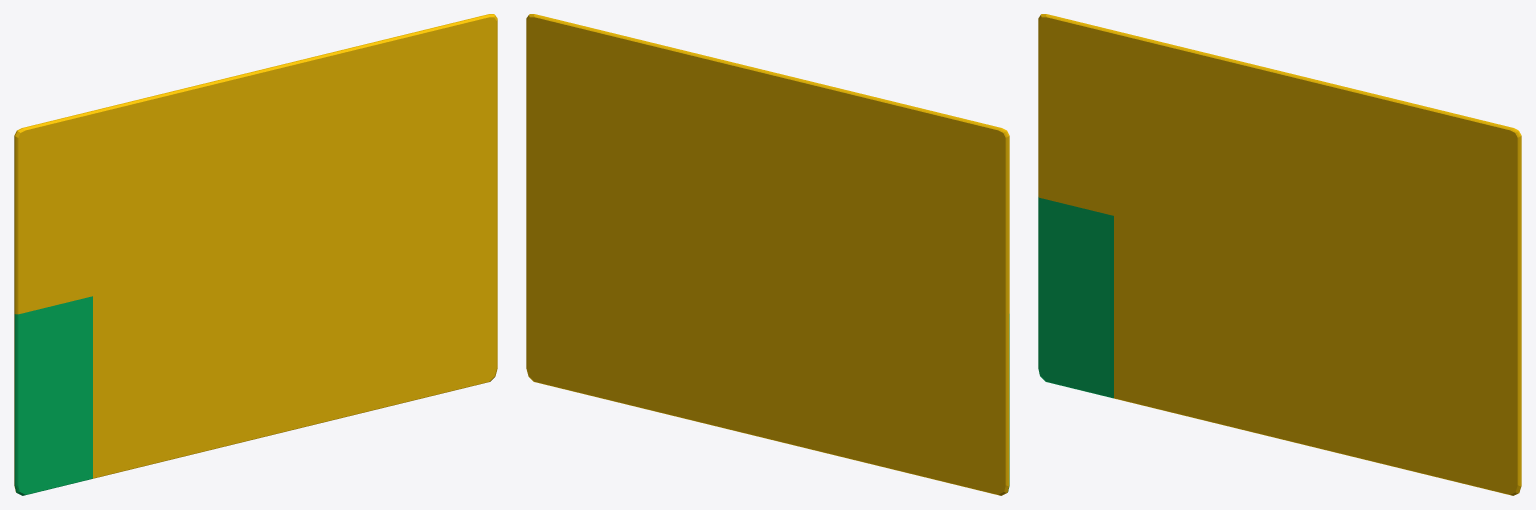
Rendered from moto_halford.gltf.
3 views of the same model, side by side, from view 1: azimuth 30°, elevation 25°; view 2: azimuth 150°, elevation 25°; view 3: azimuth 330°, elevation 25° (orthographic).
Visible parts, largest first — view 1: Plane; view 2: Plane; view 3: Plane.
Boxes of the visible parts, box(x1,y1,x2,y2) form: Plane: box(14, 14, 497, 495); Plane: box(526, 14, 1009, 495); Plane: box(1038, 14, 1521, 495).
Size of the model in its own units: 6.98 by 5.07 by 0.0744.
